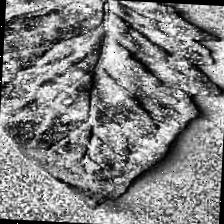spider mites: (0, 0, 224, 214)
